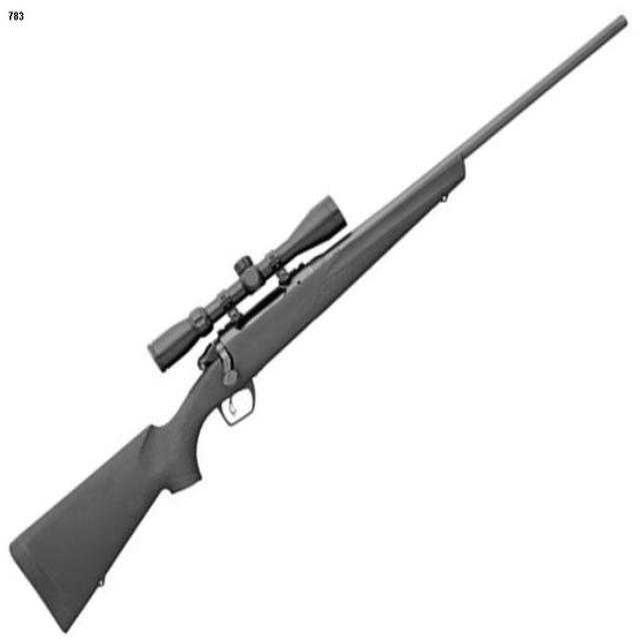heavyweapon: (1, 3, 639, 634)
